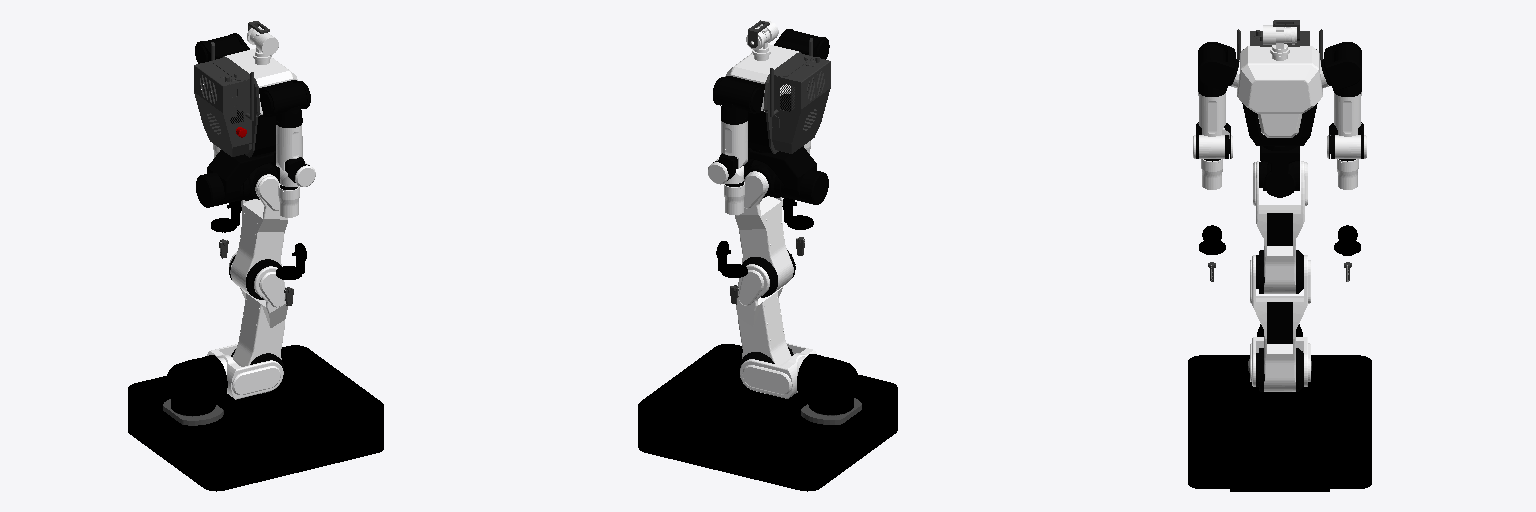
--- Render facts (derived) ---
3 views of the same robot in one strip: view 1: azimuth 30°, elevation 25°; view 2: azimuth 150°, elevation 25°; view 3: azimuth 270°, elevation 25° (orthographic).
Model RBY1_M_v1.3 with 34 links and 33 joints (22 revolute, 4 continuous, 4 prismatic, 3 fixed), rooted at base, posed every joint at zero.
Visible links, largest first — view 1: base, link_torso_5, link_torso_2, link_torso_1, link_torso_4, link_torso_0, link_right_arm_2, link_right_arm_1, link_right_arm_3, link_right_arm_0, link_head_1, link_left_arm_0 (+2 smaller); view 2: base, link_torso_5, link_torso_2, link_torso_1, link_torso_4, link_torso_0, link_left_arm_2, link_left_arm_1, link_left_arm_3, link_left_arm_0, link_right_arm_0, link_left_arm_6 (+1 smaller); view 3: base, link_torso_5, link_torso_1, link_torso_2, link_torso_4, link_right_arm_2, link_left_arm_2, link_right_arm_3, link_left_arm_3, link_right_arm_0, link_left_arm_0, link_torso_0 (+5 smaller).
Boxes of the visible links, bbox=[...] form: base: bbox=[128, 345, 383, 491]; link_torso_5: bbox=[194, 42, 297, 157]; link_torso_2: bbox=[229, 174, 287, 299]; link_torso_1: bbox=[229, 252, 287, 393]; link_torso_4: bbox=[196, 150, 279, 207]; link_torso_0: bbox=[207, 344, 283, 399]; link_right_arm_2: bbox=[274, 125, 315, 186]; link_right_arm_1: bbox=[270, 83, 305, 127]; link_right_arm_3: bbox=[277, 162, 308, 217]; link_right_arm_0: bbox=[259, 80, 310, 116]; link_head_1: bbox=[247, 27, 278, 58]; link_left_arm_0: bbox=[195, 33, 249, 63]; base: bbox=[638, 344, 897, 491]; link_torso_5: bbox=[725, 38, 830, 153]; link_torso_2: bbox=[735, 171, 795, 297]; link_torso_1: bbox=[736, 252, 793, 367]; link_torso_4: bbox=[747, 146, 828, 204]; link_torso_0: bbox=[740, 343, 816, 398]; link_left_arm_2: bbox=[708, 121, 749, 184]; link_left_arm_1: bbox=[718, 79, 752, 124]; link_left_arm_3: bbox=[716, 159, 746, 214]; link_left_arm_0: bbox=[713, 76, 764, 113]; link_right_arm_0: bbox=[774, 29, 829, 59]; link_left_arm_6: bbox=[716, 241, 747, 277]; base: bbox=[1188, 324, 1371, 491]; link_torso_5: bbox=[1229, 29, 1330, 148]; link_torso_1: bbox=[1250, 255, 1310, 391]; link_torso_2: bbox=[1253, 161, 1307, 293]; link_torso_4: bbox=[1260, 146, 1299, 197]; link_right_arm_2: bbox=[1193, 92, 1232, 158]; link_left_arm_2: bbox=[1327, 92, 1366, 158]; link_right_arm_3: bbox=[1199, 135, 1228, 189]; link_left_arm_3: bbox=[1331, 135, 1360, 189]; link_right_arm_0: bbox=[1198, 42, 1236, 90]; link_left_arm_0: bbox=[1323, 42, 1361, 90]; link_torso_0: bbox=[1250, 337, 1310, 386].
Size in the robot's own frame: 0.695 by 0.6 by 1.53 metres.
24 mesh visuals loaded from 28 distinct referenced files (21 Collada DAE); not drawn: 10 (reference not matched to a file when rendering).

URDF robot description (RBY1_M_v1.3):
<?xml version="1.0"?>
<robot name="RBY1_M_v1.3">
    <mobile type="mecanum" xyz="0 0 0" rpy="0 0 0" joints="wheel_fr wheel_fl wheel_rr wheel_rl"
            params="0.245 0.245 0.076"/> <!-- Lx, Ly, wheel_radius -->

    <link name="base">
        <inertial>
            <mass value="82.93082168"/>
            <origin rpy="0 0 0" xyz="-0.05361531 -0.00279946 0.13500266"/>
            <inertia ixx="2.38184773" ixy="0.00958286" ixz="0.32695003" iyy="4.04857218" iyz="-0.01527373" izz="5.45210782"/>
        </inertial>
        <visual>
            <geometry>
                <mesh filename="./meshes/base.dae"/>
            </geometry>
        </visual>
    </link>

    <link name="wheel_fr_link">
        <inertial>
            <mass value="2.54410022"/>
            <origin rpy="0 0 3.1415926535897932384626433832795" xyz="-0.00010511 0.00094580 0.0"/>
            <inertia ixx="0.00470985" ixy="-0.00000025" ixz="0.0" iyy="0.00616429" iyz="0.0" izz="0.00470754"/>
        </inertial>
        <visual>
            <geometry>
                <mesh filename="./meshes/MECANUM_WHEEL.dae"/>
            </geometry>
        </visual>
    </link>

    <link name="wheel_fl_link">
        <inertial>
            <mass value="2.54417879"/>
            <origin rpy="0 0 0" xyz="-0.00010433 -0.00094577 0.0"/>
            <inertia ixx="0.00471013" ixy="0.00000025" ixz="0.0" iyy="0.00616468" iyz="0.0" izz="0.00470782"/>
        </inertial>
        <visual>
            <geometry>
                <mesh filename="./meshes/MECANUM_WHEEL_M.dae"/>
            </geometry>
        </visual>
    </link>

    <link name="wheel_rr_link">
        <inertial>
            <mass value="2.54410022"/>
            <origin rpy="0 0 0" xyz="-0.00010511 0.00094580 0.0"/>
            <inertia ixx="0.00470985" ixy="-0.00000025" ixz="0.0" iyy="0.00616429" iyz="0.0" izz="0.00470754"/>
        </inertial>
        <visual>
            <geometry>
                <mesh filename="./meshes/MECANUM_WHEEL_M.dae"/>
            </geometry>
        </visual>
    </link>

    <link name="wheel_rl_link">
        <inertial>
            <mass value="2.54417879"/>
            <origin rpy="0 0 3.1415926535897932384626433832795" xyz="-0.00010433 -0.00094577 0.0"/>
            <inertia ixx="0.00471013" ixy="0.00000025" ixz="0.0" iyy="0.00616468" iyz="0.0" izz="0.00470782"/>
        </inertial>

        <visual>
            <geometry>
                <mesh filename="./meshes/MECANUM_WHEEL.dae"/>
            </geometry>
        </visual>
    </link>

    <link name="link_torso_0">
        <inertial>
            <mass value="2.24282123"/>
            <origin rpy="0 0 0" xyz="-0.08848415 0.00021367 0.00000046"/>
            <inertia ixx="0.01413496" ixy="0.00092982" ixz="-0.00000010" iyy="0.01005357"
                     iyz="-0.00000008" izz="0.01892525"/>
        </inertial>

        <visual>
            <geometry>
                <mesh filename="./meshes/LINK_1.dae"/>
            </geometry>
        </visual>

        <collision>
            <origin xyz="-0.115 0 0" rpy="0 1.5708 0"/>
            <geometry>
                <capsule radius="0.105" length="0.230" coltype="1"/>
                <!-- <capsule sp="0.0 0.0 0.0" ep="-0.230 0.0 0.0" radius="0.105" length="1"/> -->
            </geometry>
        </collision>
    </link>

    <link name="link_torso_1">
        <inertial>
            <mass value="9.72162676"/>
            <origin rpy="0 0 0" xyz="0.00728955 -0.01728522 0.06911380"/>
            <inertia ixx="0.14862640" ixy="-0.00142621" ixz="-0.00951385" iyy="0.13854733"
                     iyz="-0.00975351" izz="0.02912982"/>
        </inertial>

        <visual>
            <geometry>
                <mesh filename="./meshes/LINK_2.dae"/>
            </geometry>
        </visual>

        <collision>
            <origin xyz="0.0100 0 0.2400" rpy="0 0 0"/>
            <geometry>
                <capsule radius="0.115" length="0.220" coltype="2"/>
                <!-- <capsule sp="0.01 0.0 0.130" ep="0.01 0.0 0.350" radius="0.115"/> -->
            </geometry>
        </collision>
    </link>

    <link name="link_torso_2">
        <inertial>
            <mass value="9.21691850"/>
            <origin rpy="0 0 0" xyz="0.00653835 -0.01769536 0.05636582"/>
            <inertia ixx="0.12162270" ixy="-0.00127910" ixz="-0.00831678" iyy="0.11589190"
                     iyz="-0.00873271" izz="0.03094484"/>
        </inertial>

        <visual>
            <geometry>
                <mesh filename="./meshes/LINK_3.dae"/>
            </geometry>
        </visual>

        <collision>
            <origin xyz="0.0250 0 0.2300" rpy="0 0 0"/>
            <geometry>
                <capsule radius="0.095" length="0.1600" coltype="4"/>
                <!-- <capsule sp="0.025 0.0 0.15" ep="0.025 0.0 0.310" radius="0.095"/> -->
            </geometry>
        </collision>
    </link>

    <link name="link_torso_3">
        <inertial>
            <mass value="4.18679196"/>
            <origin rpy="0 0 0" xyz="-0.00574156 -0.01725975 0.00005610"/>
            <inertia ixx="0.00849870" ixy="0.00040861" ixz="-0.00000263" iyy="0.00929513"
                     iyz="-0.00001243" izz="0.00955442"/>
        </inertial>

        <visual>
            <geometry>
                <mesh filename="./meshes/LINK_4.dae"/>
            </geometry>
        </visual>
    </link>

    <link name="link_torso_4">
        <inertial>
            <mass value="4.45566276"/>
            <origin rpy="0 0 0" xyz="-0.09097095 0.00005085 0.02601950"/>
            <inertia ixx="0.01545991" ixy="0.00001883" ixz="-0.00780349" iyy="0.02550888" iyz="0.00000715"
                     izz="0.01952563"/>
        </inertial>

        <visual>
            <geometry>
                <mesh filename="./meshes/LINK_5.dae"/>
            </geometry>
        </visual>


        <collision>
            <origin xyz="-0.070000 0 0.038500" rpy="0 1.5708 0"/>
            <geometry>
                <capsule radius="0.105" length="0.2" coltype="8"/>
                <!-- <capsule sp="0.03 0.0 0.0385" ep="-0.170 0.0 0.0385" radius="0.105"/> -->
            </geometry>
        </collision>
    </link>

    <link name="link_torso_5">
        <inertial>
            <mass value="14.73283950" />
            <origin rpy="0 0 0" xyz="-0.03419752 0.00073431 -0.02659420" />
            <inertia ixx="0.23934353" ixy="0.00158316" ixz="0.02926509" iyy="0.23140544" iyz="0.00018390"
                izz="0.18873182" />
        </inertial>

        <visual>
            <geometry>
                <mesh filename="./meshes/LINK_6.dae"/>
            </geometry>
        </visual>

        <collision>
            <origin xyz="0 0 0.0075" rpy="0 0 0"/>
            <geometry>
                <capsule radius="0.155" length="0.1350" coltype="16"/>
                <!-- <capsule sp="0.0 0.0 -0.06" ep="0.0 0.0 0.075" radius="0.155"/> -->
            </geometry>
        </collision>
    </link>

    <link name="link_right_arm_0">
        <inertial>
            <mass value="1.26164242"/>
            <origin rpy="0 0 0" xyz="-0.00316662 0.03437181 -0.00000030"/>
            <inertia ixx="0.00230621" ixy="0.00039024" ixz="-0.00000256" iyy="0.00426418" iyz="0.00000118"
                     izz="0.00432156"/>
        </inertial>

        <visual>
            <geometry>
                <mesh filename="./meshes/LINK_7.dae"/>
            </geometry>
        </visual>

        <collision>
            <origin xyz="-0.015 0.018 -0.008" rpy="0 1.5708 0"/>
            <geometry>
                <capsule radius="0.075" length="0.0700"/>
            </geometry>
        </collision>
    </link>

    <link name="link_right_arm_1">
        <inertial>
            <mass value="2.27287031"/>
            <origin rpy="0 0 0" xyz="-0.00307855 -0.00124741 -0.01294324"/>
            <inertia ixx="0.00388490" ixy="-0.00001477" ixz="0.00011465" iyy="0.00447034"
                     iyz="-0.00010023" izz="0.00288341"/>
        </inertial>

        <visual>
            <geometry>
                <mesh filename="./meshes/LINK_8.dae"/>
            </geometry>
        </visual>

        <collision>
            <origin xyz="0 0 -0.1000" rpy="0 0 0"/>
            <geometry>
                <capsule radius="0.05" length="0.2" coltype="32"/>
                <!-- <capsule sp="0.0 0.0 0.0" ep="0.0 0.0 -0.200" radius="0.050"/> -->
            </geometry>
        </collision>
    </link>

    <link name="link_right_arm_2">
        <inertial>
            <mass value="2.46909439"/>
            <origin rpy="0 0 0" xyz="0.00115434 -0.00196635 -0.16192524"/>
            <inertia ixx="0.00980269" ixy="0.00005871" ixz="0.00051888" iyy="0.00924560" iyz="-0.00045932"
                     izz="0.00329867"/>
        </inertial>

        <visual>
            <geometry>
                <mesh filename="./meshes/LINK_9.dae"/>
            </geometry>
        </visual>

        <collision>
            <origin xyz="0.0260 0 -0.2760" rpy="1.5708 0 0"/>
            <geometry>
                <capsule radius="0.05" length="0.080000" coltype="64"/>
                <!-- <capsule sp="0.026 -0.040 -0.276" ep="0.026 0.040 -0.276" radius="0.05"/> -->
            </geometry>
        </collision>
    </link>

    <link name="link_right_arm_3">
        <inertial>
            <mass value="2.26099493"/>
            <origin rpy="0 0 0" xyz="-0.01603135 -0.00692891 -0.04549811"/>
            <inertia ixx="0.00822606" ixy="0.00027620" ixz="-0.00156570" iyy="0.00844870" iyz="0.00076157"
                     izz="0.00236614"/>
        </inertial>

        <visual>
            <geometry>
                <mesh filename="./meshes/LINK_10.dae"/>
            </geometry>
        </visual>

        <collision>
            <origin xyz="-0.0310 0 -0.1075" rpy="0 0 0"/>
            <geometry>
                <capsule radius="0.04" length="0.1150" coltype="128" colaffinity="30"/>
                <!-- <capsule sp="-0.031 0.0 -0.05" ep="-0.031 0.0 -0.165" radius="0.04"/> -->
            </geometry>
        </collision>
    </link>

    <link name="link_right_arm_4"> <!--WY-->
        <inertial>
            <mass value="1.49373286"/>
            <origin rpy="0 0 0" xyz="-0.00006159 0.00402933 0.09539632"/>
            <inertia ixx="0.00327354" ixy="-0.00000405" ixz="-0.00000027" iyy="0.00252231" iyz="-0.00001749"
                     izz="0.00186828"/>
            <!-- <mass value="0.42508710"/>
            <origin rpy="0 0 0" xyz="-0.00000011 -0.02696036 0.06182110"/>
            <inertia ixx="0.00082466" ixy="0.0" ixz="0.0" iyy="0.00075398" iyz="-0.00025338"
                     izz="0.00039794"/> -->
        </inertial>

        <visual>
            <geometry>
                <mesh filename="./meshes/LINK_11_WY.dae"/>
            </geometry>
            <material name="black">
                <color rgba="0 0 0 1.0"/>
            </material>
        </visual>

        <collision>
            <origin xyz="0 -0.038 0.0175" rpy="0 0 0"/>
            <geometry>
                <capsule radius="0.035" length="0.095" coltype="256" colaffinity="30"/>
            </geometry>
        </collision>
    </link>

    <link name="link_right_arm_5"> <!--WP-->
        <inertial>
            <mass value="0.87163780"/>
            <origin rpy="0 0 0" xyz="0.00178191 0.00092083 0.00006831"/>
            <inertia ixx="0.00047456" ixy="0.00002110" ixz="0.00000222" iyy="0.00056446"
                     iyz="-0.00000011" izz="0.00067619"/>
            <!-- <mass value="1.59194395"/>
            <origin rpy="0 0 0" xyz="0.00318034 -0.00532264 -0.02809655"/>
            <inertia ixx="0.00256054" ixy="-0.00002344" ixz="-0.00001563" iyy="0.00257233"
                     iyz="0.00021608" izz="0.00156092"/> -->
        </inertial>

        <visual>
            <geometry>
                <mesh filename="./meshes/LINK_12_WP.dae"/>
            </geometry>
            <material name="black">
                <color rgba="0 0 0 1.0"/>
            </material>
        </visual>

        <collision>
            <origin xyz="0 0 -0.1" rpy="0 0 0"/>
            <geometry>
                <capsule radius="0.075" length="0.25" coltype="512" colaffinity="31"/>
                <!-- <capsule sp="0.0 0.0 0.002" ep="0.0 0.0 -0.050" radius="0.075"/> -->
            </geometry>
        </collision>
    </link>

    <link name="link_right_arm_6"> <!--WR-->
        <inertial>
            <mass value="0.74448182"/>
            <origin rpy="0 0 0" xyz="0.00706872 -0.00102308 -0.08649522"/>
            <inertia ixx="0.00187469" ixy="-0.00003209" ixz="-0.00035074" iyy="0.00160335"
                     iyz="0.00000005" izz="0.00115053"/>
            <!-- <mass value="0.21137279"/>
            <origin rpy="0 0 0" xyz="0.00066810 -0.00031708 -0.09636043"/>
            <inertia ixx="0.00013511" ixy="-0.00000242" ixz="-0.00000102" iyy="0.00014453"
                     iyz="0.00000094" izz="0.00025431"/> -->
        </inertial>

        <visual>
            <geometry>
                <mesh filename="./meshes/LINK_13_WR.dae"/>
            </geometry>
            <material name="black">
                <color rgba="0 0 0 1.0"/>
            </material>
        </visual>
    </link>

    <link name="link_left_arm_0">
        <inertial>
            <mass value="1.26164242"/>
            <origin rpy="0 0 0" xyz="-0.00316662 -0.03437151 0.00000242"/>
            <inertia ixx="0.00230624" ixy="-0.00039022" ixz="0.00000269" iyy="0.00426418" iyz="0.00000108"
                     izz="0.00432159"/>
        </inertial>

        <visual>
            <geometry>
                <mesh filename="./meshes/LINK_14.dae"/>
            </geometry>
        </visual>

        <collision>
            <origin xyz="-0.015 -0.018 -0.008" rpy="0 1.5708 0"/>
            <geometry>
                <capsule radius="0.075" length="0.0700"/>
            </geometry>
        </collision>
    </link>

    <link name="link_left_arm_1">
        <inertial>
            <mass value="1.88138658"/>
            <origin rpy="0 0 0" xyz="-0.00183470 0.00040596 -0.01008733"/>
            <inertia ixx="0.00295838" ixy="-0.00001176" ixz="0.00006949" iyy="0.00355208" iyz="0.00004467"
                     izz="0.00230558"/>
        </inertial>

        <visual>
            <geometry>
                <mesh filename="./meshes/LINK_15.dae"/>
            </geometry>
        </visual>

        <collision>
            <origin xyz="0 0 -0.1000" rpy="0 0 0"/>
            <geometry>
                <capsule radius="0.050" length="0.2000" colaffinity="768"/>
            </geometry>
        </collision>
    </link>

    <link name="link_left_arm_2">
        <inertial>
            <mass value="2.35634437"/>
            <origin rpy="0 0 0" xyz="0.00066086 -0.00038583 -0.15742972"/>
            <inertia ixx="0.00842712" ixy="0.00000247" ixz="0.00036948" iyy="0.00802311" iyz="-0.00006550"
                     izz="0.00295678"/>
        </inertial>

        <visual>
            <geometry>
                <mesh filename="./meshes/LINK_16.dae"/>
            </geometry>
        </visual>

        <collision>
            <origin xyz="0.0260 0 -0.2760" rpy="1.5708 0 0"/>
            <geometry>
                <capsule radius="0.05" length="0.080000" colaffinity="768"/>
            </geometry>
        </collision>
    </link>

    <link name="link_left_arm_3">
        <inertial>
            <mass value="2.00905891"/>
            <origin rpy="0 0 0" xyz="-0.01565298 0.00793126 -0.04997943"/>
            <inertia ixx="0.00756474" ixy="-0.00026771" ixz="-0.00155419" iyy="0.00772758"
                     iyz="-0.00084364" izz="0.00199754"/>
        </inertial>

        <visual>
            <geometry>
                <mesh filename="./meshes/LINK_17.dae"/>
            </geometry>
        </visual>

        <collision>
            <origin xyz="-0.0310 0 -0.1075" rpy="0 0 0"/>
            <geometry>
                <capsule radius="0.04" length="0.1150" colaffinity="926"/>
            </geometry>
        </collision>
    </link>

    <link name="link_left_arm_4"> <!--WY-->
        <inertial>
            <mass value="1.49373286"/>
            <origin rpy="0 0 0" xyz="0.00006159 -0.00402933 0.09539632"/>
            <inertia ixx="0.00327354" ixy="-0.00000405" ixz="0.00000027" iyy="0.00252231" iyz="0.00001749"
                     izz="0.00186828"/>
            <!-- <mass value="0.42508710"/>
            <origin rpy="0 0 0" xyz="0.00000011 0.02696036 0.06182110"/>
            <inertia ixx="0.00082466" ixy="0.0" ixz="0.0" iyy="0.00075398" iyz="0.00025338"
                     izz="0.00039794"/> -->
        </inertial>

        <visual>
            <geometry>
                <mesh filename="./meshes/LINK_18_WY.dae"/>
            </geometry>
            <material name="black">
                <color rgba="0 0 0 1.0"/>
            </material>
        </visual>

        <collision>
            <origin xyz="0 0.038000 0.017500" rpy="0 0 0"/>
            <geometry>
                <capsule radius="0.035" length="0.095000" colaffinity="1022"/>
            </geometry>
        </collision>
    </link>

    <link name="link_left_arm_5"> <!--WP-->
        <inertial>
            <mass value="0.87163780"/>
            <origin rpy="0 0 0" xyz="0.00178191 0.00092083 0.00006831"/>
            <inertia ixx="0.00047456" ixy="-0.00002110" ixz="-0.00000222" iyy="0.00056446"
                     iyz="-0.00000011" izz="0.00067619"/>
            <!-- <mass value="1.44264795"/>
            <origin rpy="0 0 0" xyz="0.00340082 0.00576824 -0.02507309"/>
            <inertia ixx="0.00233577" ixy="0.00003048" ixz="-0.00001191" iyy="0.00232580"
                     iyz="-0.00019491" izz="0.00138375"/> -->
        </inertial>

        <visual>
            <geometry>
                <mesh filename="./meshes/LINK_19_WP.dae"/>
            </geometry>
            <material name="black">
                <color rgba="0 0 0 1.0"/>
            </material>
        </visual>

        <collision>
            <origin xyz="0 0 -0.1" rpy="0 0 0"/>
            <geometry>
                <capsule radius="0.075" length="0.25" colaffinity="1023"/>
            </geometry>
        </collision>
    </link>

    <link name="link_left_arm_6"> <!--WR-->
        <inertial>
            <mass value="0.74448182"/>
            <origin rpy="0 0 0" xyz="0.00706872 -0.00102308 -0.08649522"/>
            <inertia ixx="0.00187469" ixy="-0.00003209" ixz="-0.00035074" iyy="0.00160335"
                     iyz="0.00000005" izz="0.00115053"/>
            <!-- <mass value="0.21137279"/>
            <origin rpy="0 0 0" xyz="-0.00066810 0.00031708 -0.09636043"/>
            <inertia ixx="0.00013511" ixy="-0.00000242" ixz="0.00000102" iyy="0.00014453"
                     iyz="-0.00000094" izz="0.00025431"/> -->
        </inertial>

        <visual>
            <geometry>
                <mesh filename="./meshes/LINK_20_WR.dae"/>
            </geometry>
            <material name="black">
                <color rgba="0 0 0 1.0"/>
            </material>
        </visual>
    </link>

    <!-- <link name="FT_sensor_R">
        <inertial>
            <mass value="0.49078507"/>
            <origin rpy="0 0 0" xyz="0.00010423 0.00108019 -0.01880676"/>
            <inertia ixx="0.00028587" ixy="-0.00000146" ixz="-0.00000026" iyy="0.00030459"
                     iyz="-0.00000772" izz="0.00036377"/>
        </inertial>

        <visual>
            <geometry>
                <mesh filename="./meshes/FT_SENSOR_R.dae"/>
            </geometry>
        </visual>
    </link>

    <link name="FT_sensor_L">
        <inertial>
            <mass value="0.49078507"/>
            <origin rpy="0 0 0" xyz="-0.00010423 -0.00108019 -0.01880676"/>
            <inertia ixx="0.00028587" ixy="-0.00000146" ixz="0.00000026" iyy="0.00030459" iyz="0.00000772"
                     izz="0.00036377"/>
        </inertial>

        <visual>
            <geometry>
                <mesh filename="./meshes/FT_SENSOR_L.dae"/>
            </geometry>
        </visual>
    </link> -->

    <link name="ee_right">
        <inertial>
            <mass value="0.47470074"/>
            <origin rpy="0 0 0" xyz="0.00041345 0.00160451 -0.02702162"/>
            <inertia ixx="0.00053136" ixy="0.00001907" ixz="0.00000050" iyy="0.00031059"
                     iyz="0.00000880" izz="0.00060261"/>
        </inertial>

        <visual>
            <geometry>
                <mesh filename="./meshes/EE_GR_TF.dae"/>
            </geometry>
            <material name="black">
                <color rgba="0 0 0 1.0"/>
            </material>
        </visual>
    </link>

    <link name="ee_finger_r1">
        <inertial>
            <mass value="0.03326999"/>
            <origin rpy="0 0 0" xyz="0.00278346 -0.00000329 -0.02570112"/>
            <inertia ixx="0.00001231" ixy="0.0" ixz="-0.00000042" iyy="0.00001066" iyz="0.0"
                     izz="0.00000224"/>
        </inertial>

        <visual>
            <geometry>
                <mesh filename="./meshes/EE_FINGER.dae"/>
            </geometry>
        </visual>
    </link>

    <link name="ee_finger_r2">
        <inertial>
            <mass value="0.03326999"/>
            <origin rpy="0 0 0" xyz="0.00278346 -0.00000329 -0.02570112"/>
            <inertia ixx="0.00001231" ixy="0.0" ixz="-0.00000042" iyy="0.00001066" iyz="0.0"
                     izz="0.00000224"/>
        </inertial>

        <visual>
            <geometry>
                <mesh filename="./meshes/EE_FINGER.dae"/>
            </geometry>
        </visual>
    </link>

    <link name="ee_left">
        <inertial>
            <mass value="0.47470074"/>
            <origin rpy="0 0 0" xyz="0.00041345 0.00160451 -0.02702162"/>
            <inertia ixx="0.00053136" ixy="0.00001907" ixz="0.00000050" iyy="0.00031059"
                     iyz="0.00000880" izz="0.00060261"/>
        </inertial>

        <visual>
            <geometry>
                <mesh filename="./meshes/EE_GR_TF.dae"/>
            </geometry>
            <material name="black">
                <color rgba="0 0 0 1.0"/>
            </material>
        </visual>
    </link>

    <link name="ee_finger_l1">
        <inertial>
            <mass value="0.03326999"/>
            <origin rpy="0 0 0" xyz="0.00278346 -0.00000329 -0.02570112"/>
            <inertia ixx="0.00001231" ixy="0.0" ixz="-0.00000042" iyy="0.00001066" iyz="0.0"
                     izz="0.00000224"/>
        </inertial>

        <visual>
            <geometry>
                <mesh filename="./meshes/EE_FINGER.dae"/>
            </geometry>
        </visual>
    </link>

    <link name="ee_finger_l2">
        <inertial>
            <mass value="0.03326999"/>
            <origin rpy="0 0 0" xyz="0.00278346 -0.00000329 -0.02570112"/>
            <inertia ixx="0.00001231" ixy="0.0" ixz="-0.00000042" iyy="0.00001066" iyz="0.0"
                     izz="0.00000224"/>
        </inertial>

        <visual>
            <geometry>
                <mesh filename="./meshes/EE_FINGER.dae"/>
            </geometry>
        </visual>
    </link>

    <link name="link_head_0">
        <inertial>
            <mass value="0.65731648" />
            <origin rpy="0 0 0" xyz="0.00024733 0.00033306 -0.01029730" />
            <inertia ixx="0.00046241" ixy="0.00000182" ixz="0.00001119" iyy="0.00043223" iyz="0.00000061"
                izz="0.00027509" />
        </inertial>

        <visual>
            <geometry>
                <mesh filename="./meshes/NECK_0.dae" />
            </geometry>
        </visual>
    </link>

    <link name="link_head_1">
        <inertial>
            <mass value="0.70476502" />
            <origin rpy="0 0 0" xyz="-0.00041643 0.00593524 -0.00289916" />
            <inertia ixx="0.00066212" ixy="-0.00000515" ixz="0.00000093" iyy="0.00036078"
                iyz="-0.00001312" izz="0.00059265" />
        </inertial>

        <visual>
            <geometry>
                <mesh filename="./meshes/NECK_1.dae" />
            </geometry>
        </visual>
    </link>

    <link name="link_head_2">
        <inertial>
            <mass value="0.95262738" />
            <origin rpy="0 0 0" xyz="0.05315320 0.00547509 0.05913909" />
            <inertia ixx="0.00114243" ixy="0.00027678" ixz="-0.00035426" iyy="0.00107559" iyz="0.00023641"
                izz="0.00151415" />
        </inertial>

        <visual>
            <geometry>
                <mesh filename="./meshes/NECK_2.dae" />
            </geometry>
        </visual>
    </link>


    <!-- Joints -->
    <joint name="wheel_fr" type="continuous">
        <parent link="base"/>
        <child link="wheel_fr_link"/>
        <origin rpy="0.0 0.0 0.0" xyz="0.243 -0.245 0.076"/>
        <axis xyz="0 1 0"/>
    </joint>

    <joint name="wheel_fl" type="continuous">
        <parent link="base"/>
        <child link="wheel_fl_link"/>
        <origin rpy="0.0 0.0 0.0" xyz="0.243 0.245 0.076"/>
        <axis xyz="0 1 0"/>
    </joint>

    <joint name="wheel_rr" type="continuous">
        <parent link="base"/>
        <child link="wheel_rr_link"/>
        <origin rpy="0.0 0.0 0.0" xyz="-0.247 -0.245 0.076"/>
        <axis xyz="0 1 0"/>
    </joint>

    <joint name="wheel_rl" type="continuous">
        <parent link="base"/>
        <child link="wheel_rl_link"/>
        <origin rpy="0.0 0.0 0.0" xyz="-0.247 0.245 0.076"/>
        <axis xyz="0 1 0"/>
    </joint>

    <joint name="torso_0" type="revolute">
        <parent link="base"/>
        <child link="link_torso_0"/>
        <origin rpy="0.0 0.0 0.0" xyz="0.0 0.0 0.2965"/>
        <axis xyz="1 0 0"/>
        <!-- Nm, rad/s^2, rad/s, (min) rad, (max) rad -->
        <!-- 270Nm, 5rad/s^2, 120deg/s, -15deg, 15deg -->
        <limit effort="270.0"
               acceleration="5.0"
               velocity="2.09439510"
               lower="-0.261799388"
               upper="0.261799388"
        />
    </joint>

    <joint name="torso_1" type="revolute">
        <parent link="link_torso_0"/>
        <child link="link_torso_1"/>
        <origin rpy="0.0 0.0 0.0" xyz="0.0 0.0 0.0"/>
        <axis xyz="0 1 0"/>
        <!-- Nm, rad/s^2, rad/s, (min) rad, (max) rad -->
        <!-- 270Nm, 5rad/s^2, 120deg/s, -30deg, 90deg -->
        <limit effort="270.0"
               acceleration="5.0"
               velocity="2.09439510"
               lower="-0.523598776"
               upper="1.570796327"
        />
    </joint>

    <joint name="torso_2" type="revolute">
        <parent link="link_torso_1"/>
        <child link="link_torso_2"/>
        <origin rpy="0.0 0.0 0.0" xyz="0.0 0.0 0.350"/>
        <axis xyz="0 1 0"/>
        <!-- Nm, rad/s^2, rad/s, (min) rad, (max) rad -->
        <!-- 270Nm, 5rad/s^2, 120deg/s, -150deg, 90deg -->
        <limit effort="270.0"
               acceleration="5.0"
               velocity="2.09439510"
               lower="-2.617993878"
               upper="1.570796327"
        />
    </joint>

    <joint name="torso_3" type="revolute">
        <parent link="link_torso_2"/>
        <child link="link_torso_3"/>
        <origin rpy="0.0 0.0 0.0" xyz="0.0 0.0 0.350"/>
        <axis xyz="0 1 0"/>
        <!-- Nm, rad/s^2, rad/s, (min) rad, (max) rad -->
        <!-- 120Nm, 5rad/s^2, 180deg/s, -45deg, 90deg -->
        <limit effort="120.0"
               acceleration="5.0"
               velocity="3.141592654"
               lower="-0.785398163"
               upper="1.570796327"
        />
    </joint>

    <joint name="torso_4" type="revolute">
        <parent link="link_torso_3"/>
        <child link="link_torso_4"/>
        <origin rpy="0.0 0.0 0.0" xyz="0.0 0.0 0.0"/>
        <axis xyz="1 0 0"/>
        <!-- Nm, rad/s^2, rad/s, (min) rad, (max) rad -->
        <!-- 120Nm, 5rad/s^2, 180deg/s, -30deg, 30deg -->
        <limit effort="120.0"
               acceleration="5.0"
               velocity="3.141592654"
               lower="-0.523598776"
               upper="0.523598776"
        />
    </joint>

    <joint name="torso_5" type="revolute">
        <parent link="link_torso_4"/>
        <child link="link_torso_5"/>
        <origin rpy="0.0 0.0 0.0" xyz="0.0 0.0 0.309426548461"/>
        <axis xyz="0 0 1"/>
        <!-- Nm, rad/s^2, rad/s, (min) rad, (max) rad -->
        <!-- 120Nm, 5rad/s^2, 180deg/s, -135deg, 135deg -->
        <limit effort="120.0"
               acceleration="5.0"
               velocity="3.141592654"
               lower="-2.35619449"
               upper="2.35619449"
        />
    </joint>

    <joint name="right_arm_0" type="revolute">
        <parent link="link_torso_5"/>
        <child link="link_right_arm_0"/>
        <origin rpy="0.0 0.0 0.0" xyz="0.0 -0.220 0.080073451539 "/>
        <axis xyz="0.0 0.93969262 -0.34202014"/>
        <!-- Nm, rad/s^2, rad/s, (min) rad, (max) rad -->
        <!-- 70Nm, 10rad/s^2, 180deg/s, -180deg, 180deg -->
        <limit effort="70.0"
               acceleration="10.0"
               velocity="3.141592654"
               lower="-3.141592654"
               upper="3.141592654"
        />
    </joint>

    <joint name="right_arm_1" type="revolute">
        <parent link="link_right_arm_0"/>
        <child link="link_right_arm_1"/>
        <origin rpy="0.0 0.0 0.0" xyz="0.0 0.0 0.0"/>
        <axis xyz="1 0 0"/>
        <!-- Nm, rad/s^2, rad/s, (min) rad, (max) rad -->
        <!-- 70Nm, 10rad/s^2, 180deg/s, -180deg, 1deg -->
        <limit effort="70.0"
               acceleration="10.0"
               velocity="3.141592654"
               lower="-3.141592654"
               upper="0.017453293"
        />
    </joint>

    <joint name="right_arm_2" type="revolute">
        <parent link="link_right_arm_1"/>
        <child link="link_right_arm_2"/>
        <origin rpy="0.0 0.0 0.0" xyz="0.0 0.0 0.0"/>
        <axis xyz="0 0 1"/>
        <!-- Nm, rad/s^2, rad/s, (min) rad, (max) rad -->
        <!-- 70Nm, 10rad/s^2, 180deg/s, -180deg, 180deg -->
        <limit effort="70.0"
               acceleration="10.0"
               velocity="3.141592654"
               lower="-3.141592654"
               upper="3.141592654"
        />
    </joint>

    <joint name="right_arm_3" type="revolute">
        <parent link="link_right_arm_2"/>
        <child link="link_right_arm_3"/>
        <origin rpy="0.0 0.0 0.0" xyz="0.031 0.0 -0.276"/>
        <axis xyz="0 1 0"/>
        <!-- Nm, rad/s^2, rad/s, (min) rad, (max) rad -->
        <!-- 40Nm, 10rad/s^2, 180deg/s, -150deg, 1deg -->
        <limit effort="40.0"
               acceleration="10.0"
               velocity="3.141592654"
               lower="-2.617993878"
               upper="0.017453293"
        />
    </joint>

    <joint name="right_arm_4" type="revolute">
        <parent link="link_right_arm_3"/>
        <child link="link_right_arm_4"/>
        <origin rpy="0.0 0.0 0.0" xyz="-0.031 0.0 -0.3095"/>
        <axis xyz="0 0 1"/>
        <!-- Nm, rad/s^2, rad/s, (min) rad, (max) rad -->
        <!-- 10Nm, 10rad/s^2, 360deg/s, -180deg, 180deg -->
        <limit effort="10.0"
               acceleration="10.0"
               velocity="6.283185308"
               lower="-3.141592654"
               upper="3.141592654"
        />
    </joint>

    <joint name="right_arm_5" type="revolute">
        <parent link="link_right_arm_4"/>
        <child link="link_right_arm_5"/>
        <origin rpy="0.0 0.0 0.0" xyz="0.0 0.0 0.0"/>
        <axis xyz="0 1 0"/>
        <!-- Nm, rad/s^2, rad/s, (min) rad, (max) rad -->
        <!-- 10Nm, 10rad/s^2, 360deg/s, -90deg, 110deg -->
        <limit effort="10.0"
               acceleration="10.0"
               velocity="6.283185308"
               lower="-0.8726646260"
               upper="0.8726646260"
        />
    </joint>

    <joint name="right_arm_6" type="revolute">
        <parent link="link_right_arm_5"/>
        <child link="link_right_arm_6"/>
        <origin rpy="0.0 0.0 0.0" xyz="0.0 0.0 0.0"/>
        <axis xyz="1 0 0"/>
        <!-- Nm, rad/s^2, rad/s, (min) rad, (max) rad -->
        <!-- 8Nm, 10rad/s^2, 120deg/s, -155deg, 155deg -->
        <limit effort="8.0"
               acceleration="10.0"
               velocity="2.094395102"
               lower="-1.5707963268"
               upper="1.5707963268"
        />
    </joint>

    <joint name="left_arm_0" type="revolute">
        <parent link="link_torso_5"/>
        <child link="link_left_arm_0"/>
        <origin rpy="0.0 0.0 0.0" xyz="0.0 0.220 0.080073452 "/>
        <axis xyz="0.0 0.93969262 0.34202014"/>
        <!-- Nm, rad/s^2, rad/s, (min) rad, (max) rad -->
        <!-- 70Nm, 10rad/s^2, 180deg/s, -180deg, 180deg -->
        <limit effort="70.0"
               acceleration="10.0"
               velocity="3.141592654"
               lower="-3.141592654"
               upper="3.141592654"
        />
    </joint>

    <joint name="left_arm_1" type="revolute">
        <parent link="link_left_arm_0"/>
        <child link="link_left_arm_1"/>
        <origin rpy="0.0 0.0 0.0" xyz="0.0 0.0 0.0"/>
        <axis xyz="1 0 0"/>
        <!-- Nm, rad/s^2, rad/s, (min) rad, (max) rad -->
        <!-- 70Nm, 10rad/s^2, 180deg/s, -1deg, 180deg -->
        <limit effort="70.0"
               acceleration="10.0"
               velocity="3.141592654"
               lower="-0.017453293"
               upper="3.141592654"
        />
    </joint>

    <joint name="left_arm_2" type="revolute">
        <parent link="link_left_arm_1"/>
        <child link="link_left_arm_2"/>
        <origin rpy="0.0 0.0 0.0" xyz="0.0 0.0 0.0"/>
        <axis xyz="0 0 1"/>
        <!-- Nm, rad/s^2, rad/s, (min) rad, (max) rad -->
        <!-- 70Nm, 10rad/s^2, 180deg/s, -180deg, 180deg -->
        <limit effort="70.0"
               acceleration="10.0"
               velocity="3.141592654"
               lower="-3.141592654"
               upper="3.141592654"
        />
    </joint>

    <joint name="left_arm_3" type="revolute">
        <parent link="link_left_arm_2"/>
        <child link="link_left_arm_3"/>
        <origin rpy="0.0 0.0 0.0" xyz="0.031 0.0 -0.276"/>
        <axis xyz="0 1 0"/>
        <!-- Nm, rad/s^2, rad/s, (min) rad, (max) rad -->
        <!-- 40Nm, 10rad/s^2, 180deg/s, -150deg, 1deg -->
        <limit effort="40.0"
               acceleration="10.0"
               velocity="3.141592654"
               lower="-2.617993878"
               upper="0.017453293"
        />
    </joint>

    <joint name="left_arm_4" type="revolute">
        <parent link="link_left_arm_3"/>
        <child link="link_left_arm_4"/>
        <origin rpy="0.0 0.0 0.0" xyz="-0.031 0.0 -0.3095"/>
        <axis xyz="0 0 1"/>
        <!-- Nm, rad/s^2, rad/s, (min) rad, (max) rad -->
        <!-- 10Nm, 10rad/s^2, 360deg/s, -180deg, 180deg -->
        <limit effort="10.0"
               acceleration="10.0"
               velocity="6.283185308"
               lower="-3.141592654"
               upper="3.141592654"
        />
    </joint>

    <joint name="left_arm_5" type="revolute">
        <parent link="link_left_arm_4"/>
        <child link="link_left_arm_5"/>
        <origin rpy="0.0 0.0 0.0" xyz="0.0 0.0 0.0"/>
        <axis xyz="0 1 0"/>
        <!-- Nm, rad/s^2, rad/s, (min) rad, (max) rad -->
        <!-- 10Nm, 10rad/s^2, 360deg/s, -90deg, 110deg -->
        <limit effort="10.0"
               acceleration="10.0"
               velocity="6.283185308"
               lower="-0.8726646260"
               upper="0.8726646260"
        />
    </joint>

    <joint name="left_arm_6" type="revolute">
        <parent link="link_left_arm_5"/>
        <child link="link_left_arm_6"/>
        <origin rpy="0.0 0.0 0.0" xyz="0.0 0.0 0.0"/>
        <axis xyz="1 0 0"/>
        <!-- Nm, rad/s^2, rad/s, (min) rad, (max) rad -->
        <!-- 8Nm, 10rad/s^2, 120deg/s, -155deg, 155deg -->
        <limit effort="8.0"
               acceleration="10.0"
               velocity="2.094395102"
               lower="-1.5707963268"
               upper="1.5707963268"
        />
    </joint>

    <!-- <joint name="tool_right" type="fixed">
        <parent link="link_right_arm_6"/>
        <child link="FT_sensor_R"/>
        <origin rpy="0.0 0.0 0.0" xyz="0.0 0.0 -0.1087"/>
        <axis xyz="0 0 1"/>
    </joint> -->

    <joint name="END_right" type="fixed">
        <parent link="link_right_arm_6"/>
        <child link="ee_right"/>
        <origin rpy="0 0.0 0.0" xyz="0.0 0.0 -0.125"/>
        <axis xyz="0 0 0"/>
    </joint>

    <joint name="gripper_finger_r1" type="prismatic" in_model_type="fixed">
        <parent link="ee_right"/>
        <child link="ee_finger_r1"/>
        <origin rpy="0 0.0 1.5707963268" xyz="0.0 0.0 0.0"/>
        <axis xyz="1 0 0"/>
        <limit effort="1000" velocity="0.05" lower="0.0" upper="0.05"/>
    </joint>

        <joint name="gripper_finger_r2" type="prismatic" in_model_type="fixed">
        <parent link="ee_right"/>
        <child link="ee_finger_r2"/>
        <origin rpy="0 0.0 -1.5707963268" xyz="0.0 0.0 0.0"/>
        <axis xyz="-1 0 0"/>
        <limit effort="1000" velocity="0.05" lower="-0.05" upper="0.0"/>
    </joint>

    <!-- <joint name="tool_left" type="fixed">
        <parent link="link_left_arm_6"/>
        <child link="FT_sensor_L"/>
        <origin rpy="0.0 0.0 0" xyz="0.0 0.0 -0.1087"/>
        <axis xyz="0 0 1"/>
    </joint> -->

    <joint name="END_left" type="fixed">
        <parent link="link_left_arm_6"/>
        <child link="ee_left"/>
        <origin rpy="0 0.0 0.0" xyz="0.0 0.0 -0.125"/>
        <axis xyz="0 0 0"/>
    </joint>

    <joint name="gripper_finger_l1" type="prismatic" in_model_type="fixed">
        <parent link="ee_left"/>
        <child link="ee_finger_l1"/>
        <origin rpy="0 0.0 1.5707963268" xyz="0.0 0.0 0.0"/>
        <axis xyz="1 0 0"/>
        <limit effort="1000" velocity="0.05" lower="0.0" upper="0.05"/>
    </joint>

    <joint name="gripper_finger_l2" type="prismatic" in_model_type="fixed">
        <parent link="ee_left"/>
        <child link="ee_finger_l2"/>
        <origin rpy="0 0.0 -1.5707963268" xyz="0.0 0.0 0.0"/>
        <axis xyz="-1 0 0"/>
        <limit effort="1000" velocity="0.05" lower="-0.05" upper="0.0"/>
    </joint>

    <joint name="head_base" type="fixed">
        <parent link="link_torso_5"/>
        <child link="link_head_0"/>
        <origin rpy="0.0 0.0 0.0" xyz="0.022 0.0 0.120073451525"/>
        <axis xyz="0 0 1"/>
    </joint>

    <joint name="head_0" type="revolute">
        <parent link="link_head_0" />
        <child link="link_head_1" />
        <origin rpy="0.0 0.0 0.0" xyz="0.0 0.0 0.080" />
        <axis xyz="0 0 1" />
        <limit effort="1000" velocity="3.14" lower="-1.57" upper="1.57" />
    </joint>

    <joint name="head_1" type="revolute">
        <parent link="link_head_1" />
        <child link="link_head_2" />
        <origin rpy="0.0 0.0 0.0" xyz="0.0 0.0 0.0" />
        <axis xyz="0 1 0" />
        <limit effort="1000" velocity="3.14" lower="-1.57" upper="1.57" />
    </joint>

    <!-- <joint name="head_mount" type="fixed">
      <parent link="link_head_2"/>
      <child link="Arbitrary device"/>
      <origin rpy="0.0 0.0 0.0" xyz="0.022 0.0 0.04"/>
      <axis xyz="0 0 1"/>
    </joint> -->

</robot>
